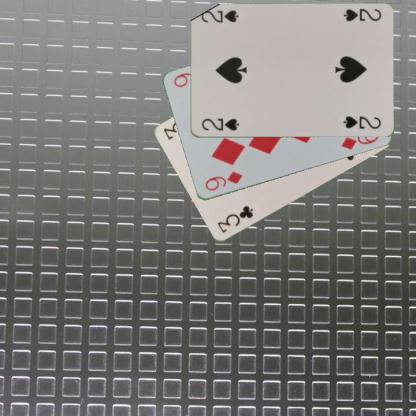2s: (340, 6, 382, 22), (199, 116, 240, 132)
3c: (214, 202, 255, 234)
9d: (202, 169, 244, 192)
